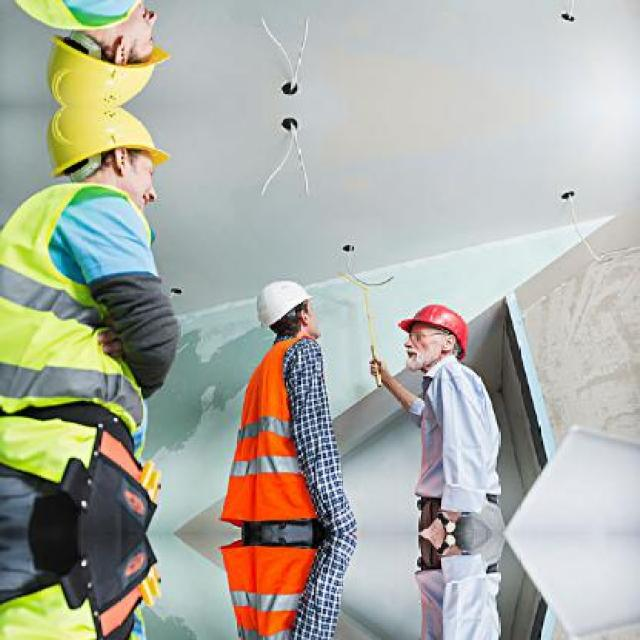helmet: (39, 106, 170, 217), (38, 0, 171, 108), (389, 298, 478, 373), (248, 270, 315, 350)
